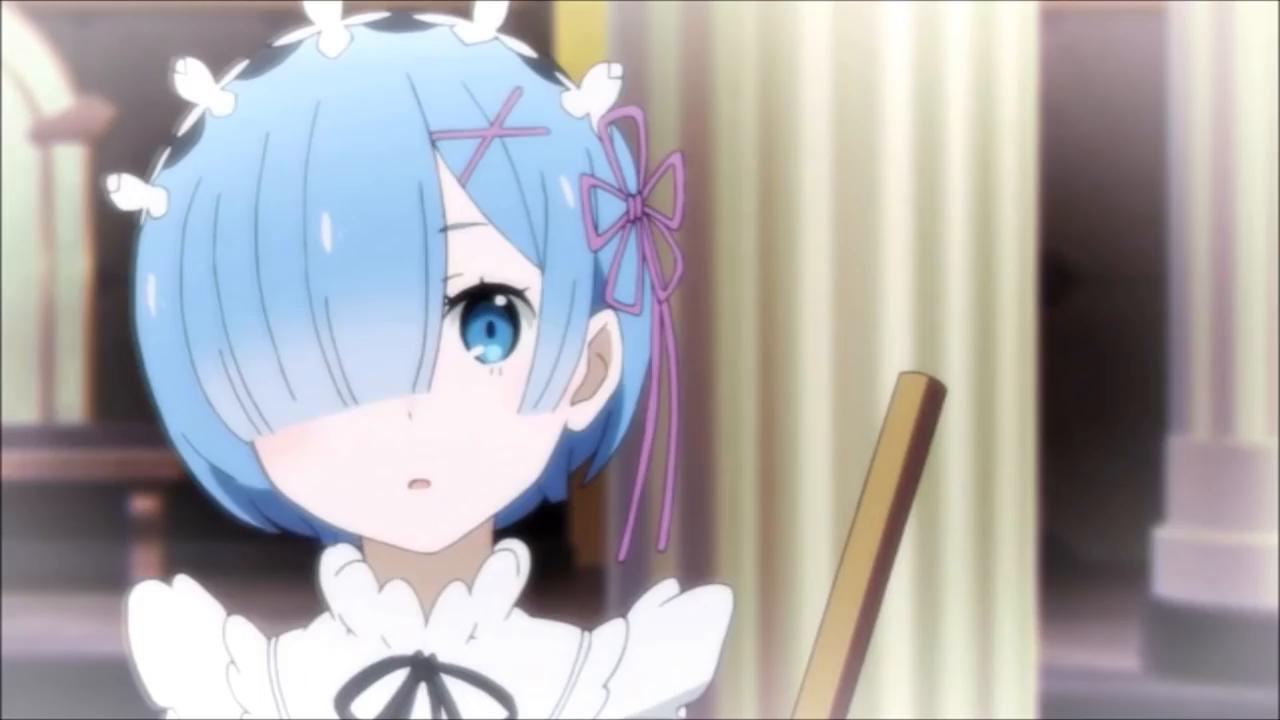REM: (110, 2, 699, 561)
